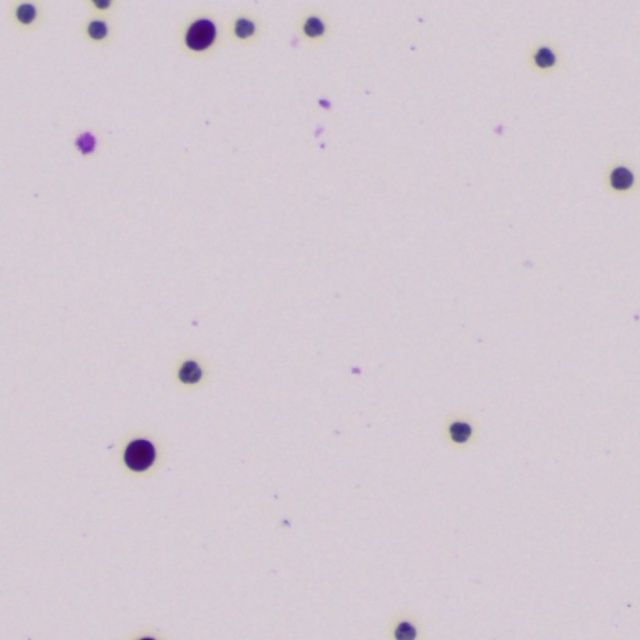intermediate: (179, 361, 200, 382), (76, 133, 95, 153), (395, 622, 415, 638)
non_viable: (450, 422, 471, 441), (235, 18, 254, 37), (535, 48, 554, 67), (16, 4, 35, 23), (303, 17, 323, 35), (88, 21, 106, 38), (92, 0, 110, 7)
viable: (124, 439, 154, 469), (186, 19, 215, 49), (611, 167, 632, 189)
